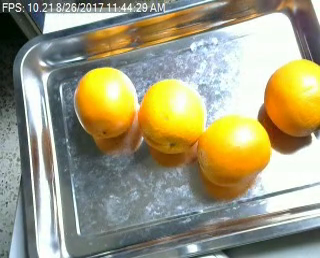Orange: (196, 116, 272, 185), (138, 78, 205, 152), (73, 67, 137, 138), (264, 57, 320, 138)
